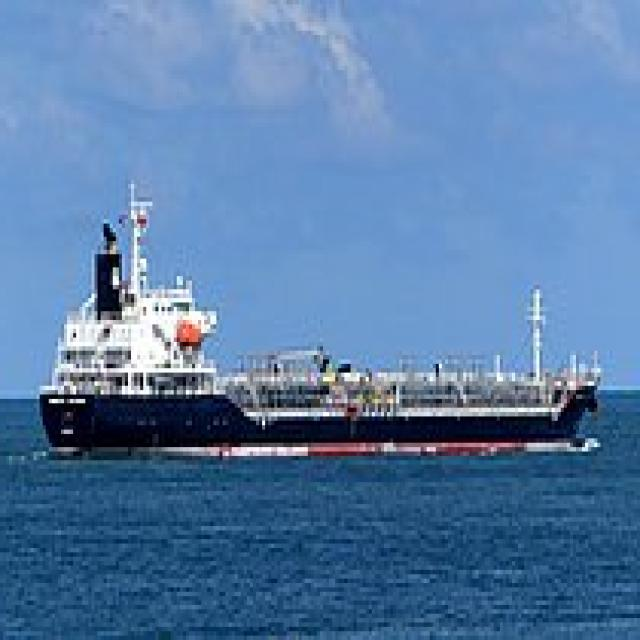Tanker: (33, 171, 610, 456)
